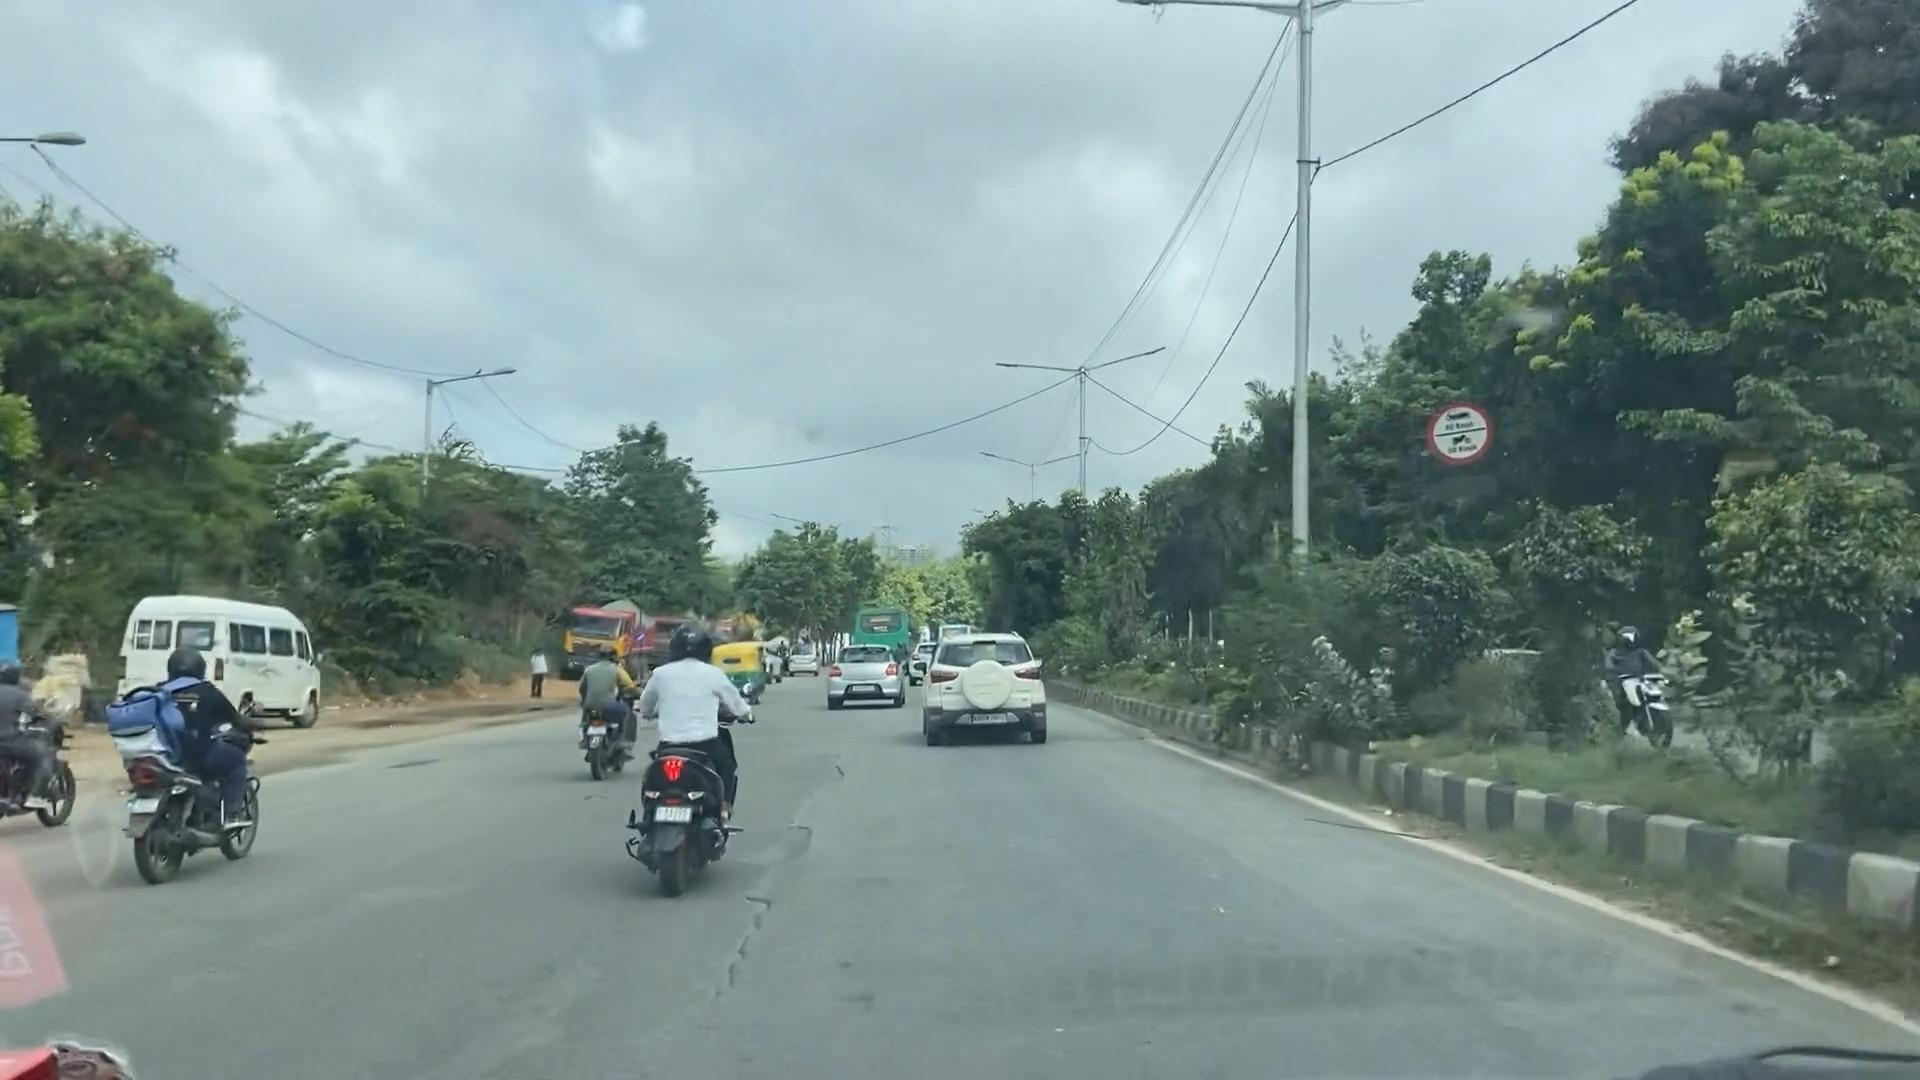HMV: (107, 587, 348, 731)
LMV: (605, 568, 762, 932), (98, 640, 278, 878), (0, 654, 150, 848), (914, 616, 1058, 736), (807, 629, 916, 740), (704, 618, 758, 724)
